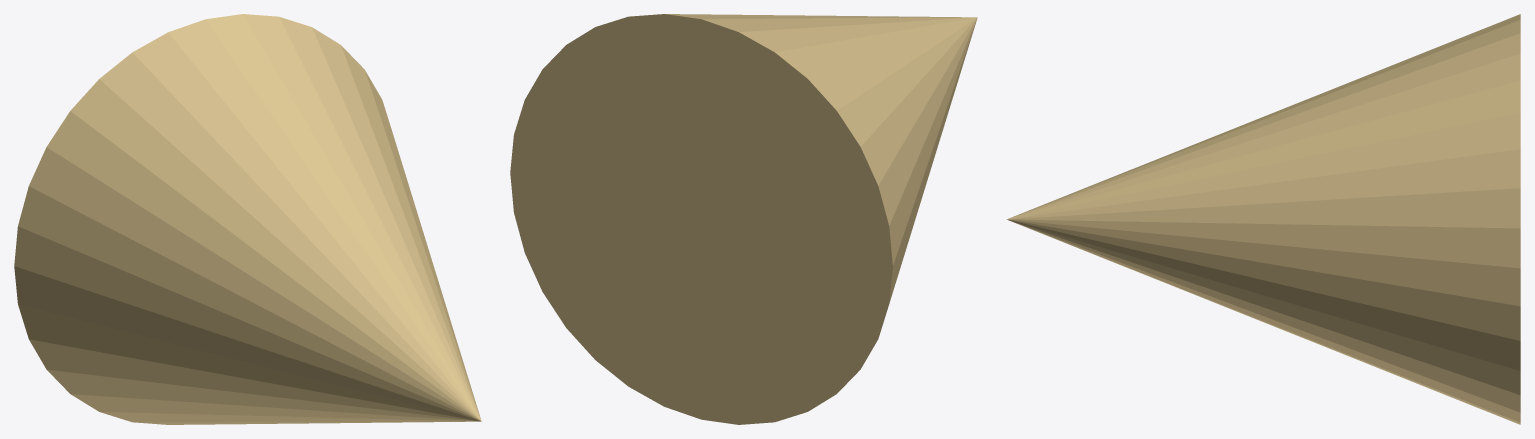
3 views of the same model, side by side, from view 1: azimuth 30°, elevation 25°; view 2: azimuth 150°, elevation 25°; view 3: azimuth 270°, elevation 25° (orthographic). The views are drawn at different scales.
Parts seen in each view (by area): view 1: world; view 2: world; view 3: world.
Part boxes in pixels (x1,y1,x2,y2): world: (14, 14, 481, 424); world: (510, 14, 977, 424); world: (1006, 14, 1520, 424).
Bounding box in the file's own units: 2 × 2 × 2.5.
